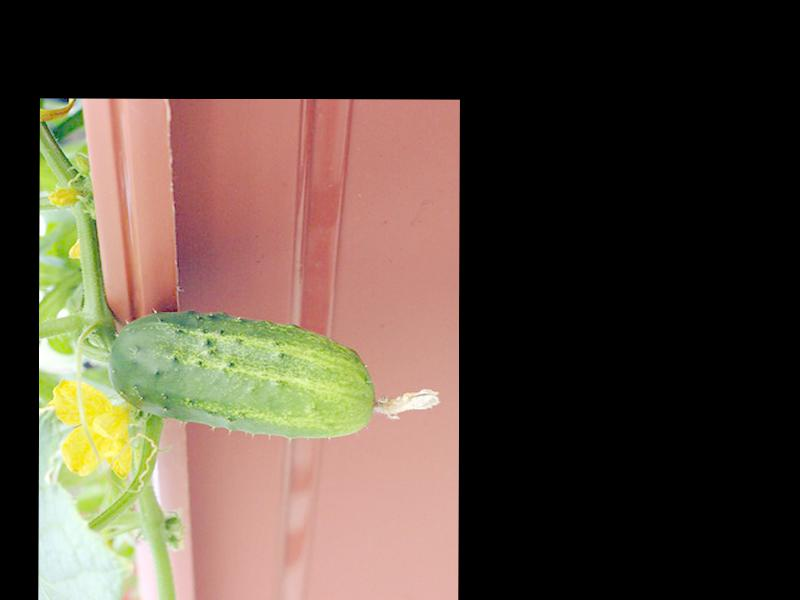Cucumber: (107, 312, 441, 439)
